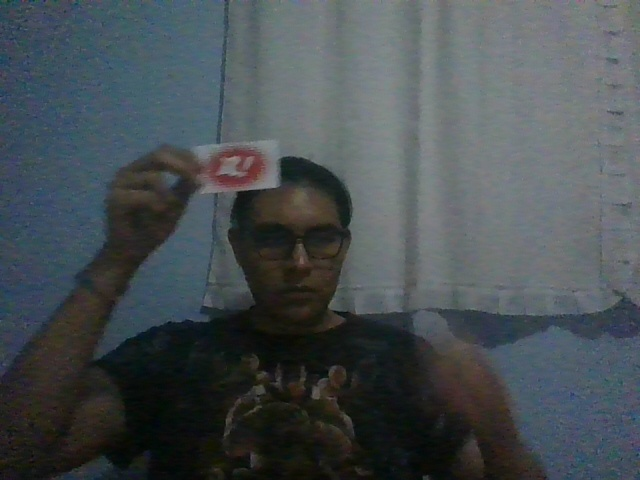tarjeta: (188, 139, 283, 196)
